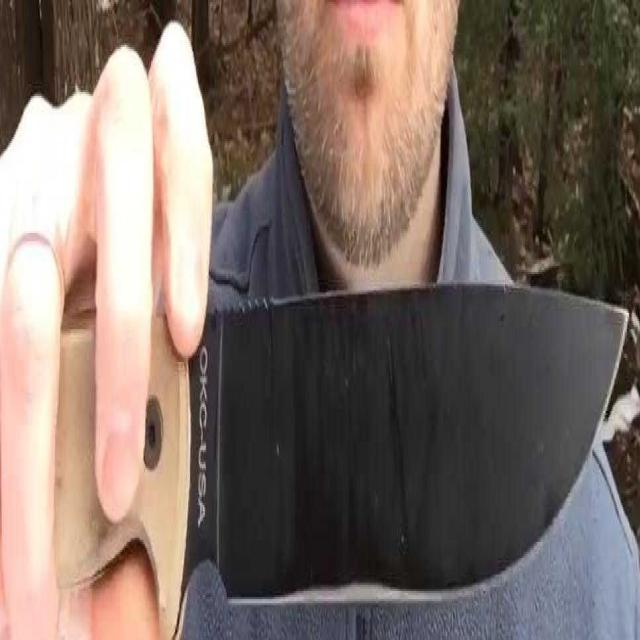Knife: (51, 276, 640, 626)
